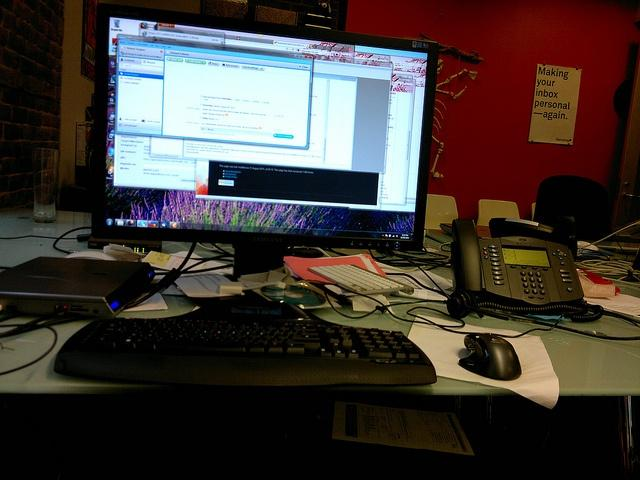AIO PC-Monitor-TV: (92, 0, 439, 273)
